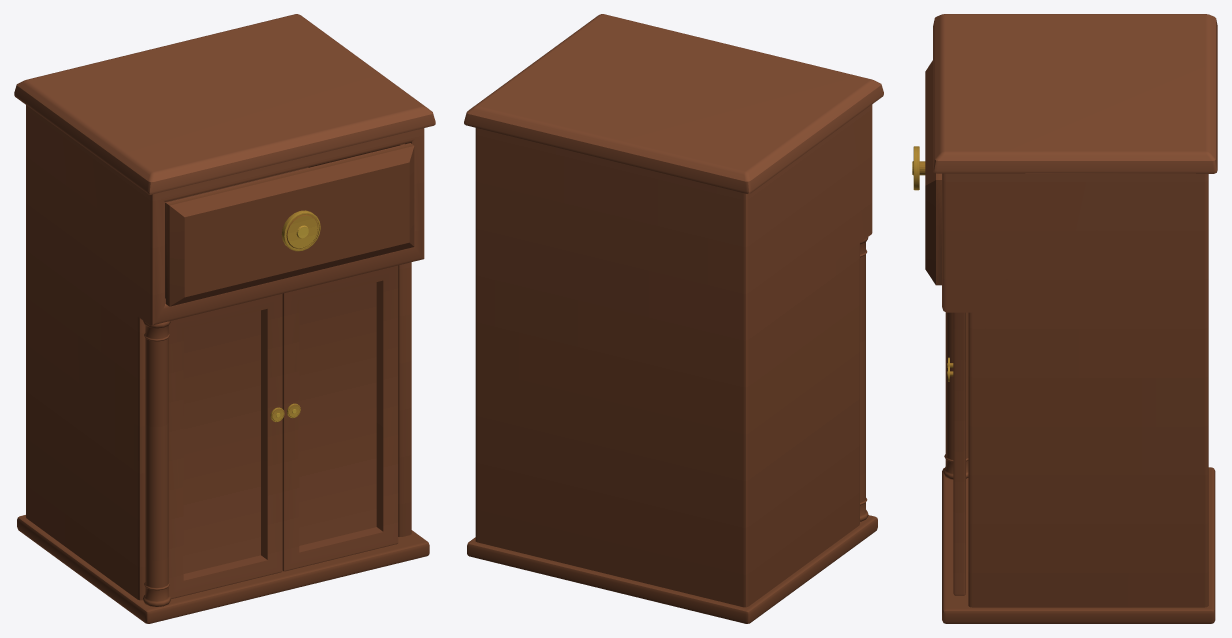
File: SM_DisplayBase.fbx
3 renders of one model, left to right at view 1: azimuth 30°, elevation 25°; view 2: azimuth 150°, elevation 25°; view 3: azimuth 270°, elevation 25°, orthographic. The views are drawn at different scales.
Parts seen in each view (by area): view 1: SM_DisplayBase; view 2: SM_DisplayBase; view 3: SM_DisplayBase.
Boxes of the visible parts, bbox=[...] form: SM_DisplayBase: bbox=[14, 14, 435, 623]; SM_DisplayBase: bbox=[464, 14, 883, 623]; SM_DisplayBase: bbox=[912, 14, 1217, 623].
Size of the model in its own units: 57.39 by 85.89 by 50.57.
